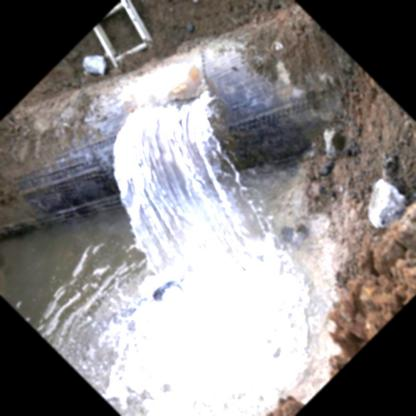burst: (110, 99, 239, 136)
